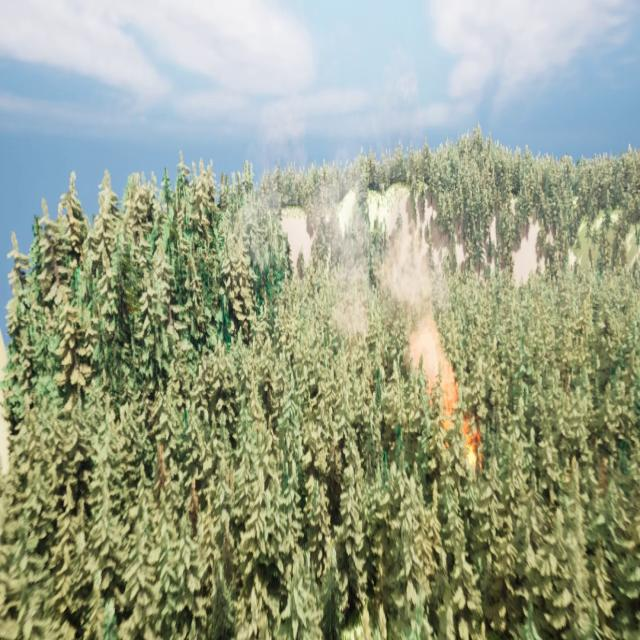fire: (435, 363, 480, 464)
smoke: (295, 150, 460, 404)
